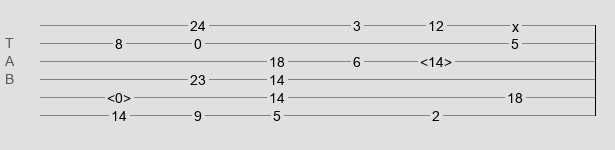0: (194, 36, 202, 46)
12: (428, 18, 444, 28)
14: (111, 108, 127, 118), (269, 90, 285, 100), (269, 72, 285, 82)
18: (269, 54, 285, 64), (507, 90, 523, 100)
2: (432, 108, 440, 118)
23: (190, 72, 206, 82)
24: (190, 18, 206, 28)
3: (353, 18, 361, 28)
5: (273, 108, 281, 118), (511, 36, 519, 46)
6: (353, 54, 361, 64)
8: (115, 36, 123, 46)
9: (194, 108, 202, 118)
harmonic: (420, 54, 452, 64), (107, 90, 131, 100)
x: (512, 19, 519, 27)
